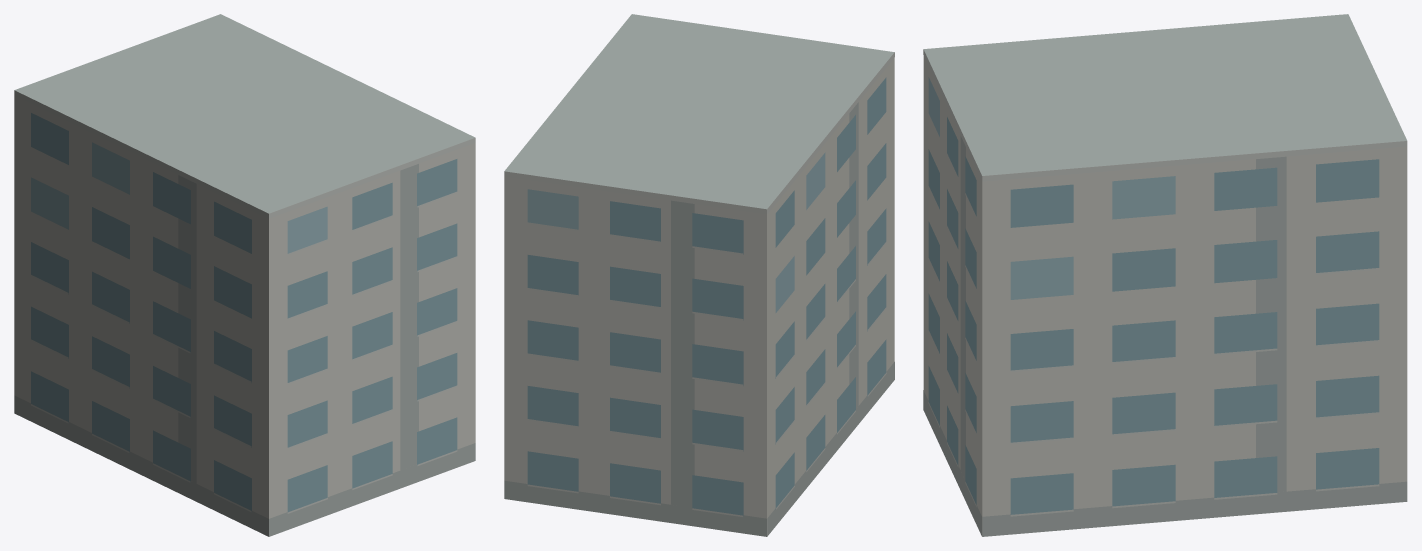
Rendered from residential-1c8c1e9f-7c7e-4069-9719-1279e44efda5.glb.
3 renders of one model, left to right at view 1: azimuth 30°, elevation 25°; view 2: azimuth 150°, elevation 25°; view 3: azimuth 270°, elevation 25°, orthographic. The views are drawn at different scales.
Visible parts, largest first — view 1: residential-1c8c1e9f-7c7e-4069-9719-1279e44efda5.tmp; view 2: residential-1c8c1e9f-7c7e-4069-9719-1279e44efda5.tmp; view 3: residential-1c8c1e9f-7c7e-4069-9719-1279e44efda5.tmp.
Part boxes in pixels (x1,y1,x2,y2): residential-1c8c1e9f-7c7e-4069-9719-1279e44efda5.tmp: [14, 14, 475, 536]; residential-1c8c1e9f-7c7e-4069-9719-1279e44efda5.tmp: [504, 14, 894, 536]; residential-1c8c1e9f-7c7e-4069-9719-1279e44efda5.tmp: [923, 14, 1407, 536].
Size of the model in its own units: 14.7 by 15.25 by 18.55.
